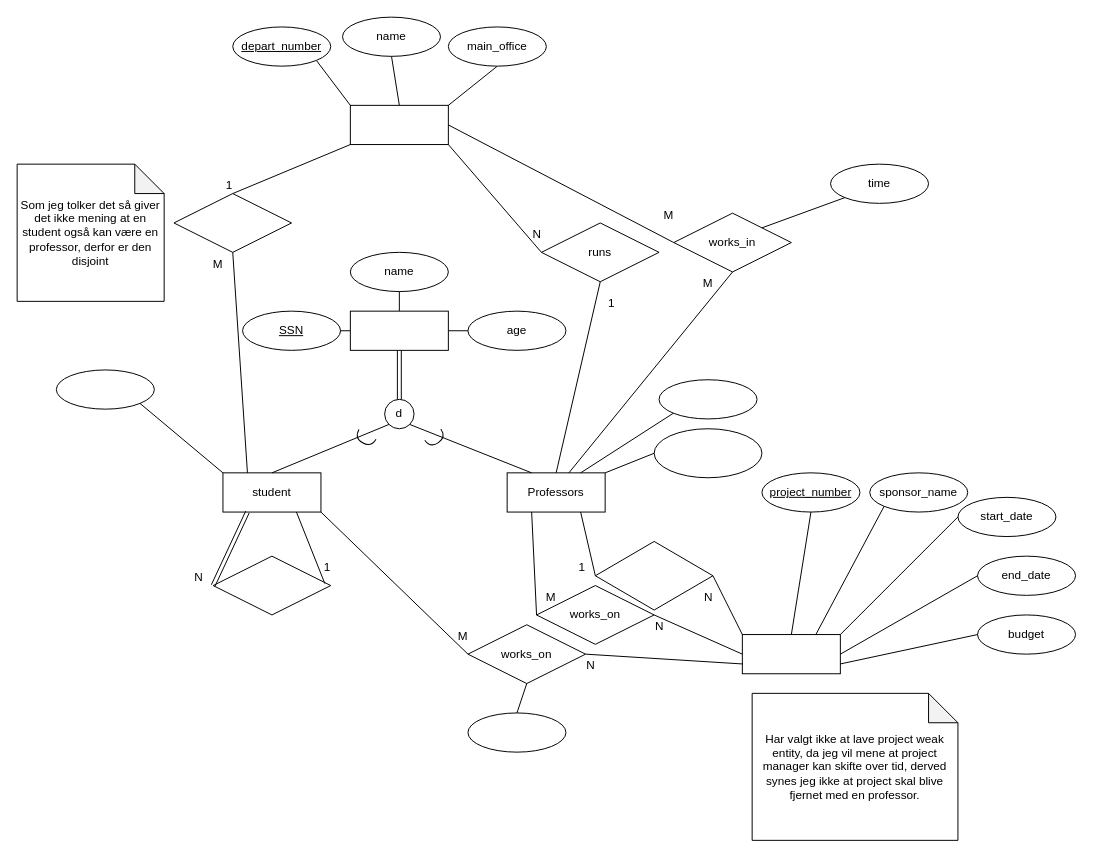
Image size: 1093x858. Some labels were removed from this diagram. The centre of each missing label's shape, as x and y in pixels:
"advised_by" belongs at (271,585).
"degree" belongs at (104,389).
"Department" belongs at (398,124).
"manged_by" belongs at (653,575).
"person" belongs at (398,330).
"Projects" belongs at (790,654).
"rank" belongs at (707,399).
"research_specialty" belongs at (707,453).
"study_in" belongs at (232,222).
"supervise" belongs at (516,732).
